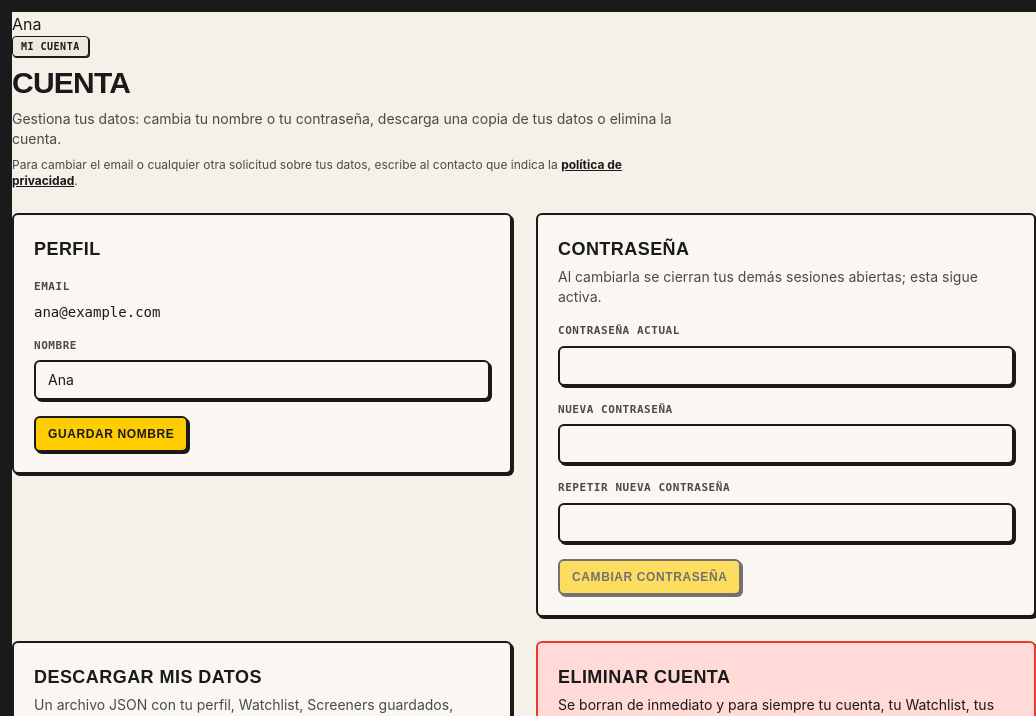
Test case: changes the password and clears the form
Type "old-password" into the password field labelled "Contraseña actual". click: (786, 366)
box: [558, 346, 1014, 386]
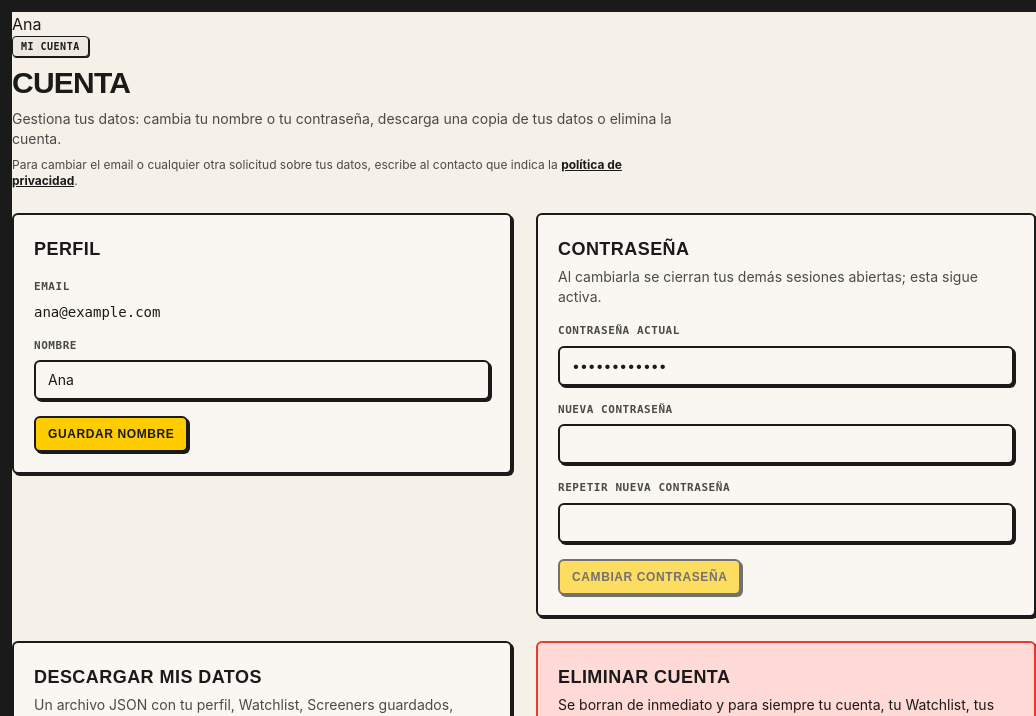
Type "brand-new-password" into the password field labelled "Nueva contraseña". click: (786, 444)
box: [558, 424, 1014, 464]
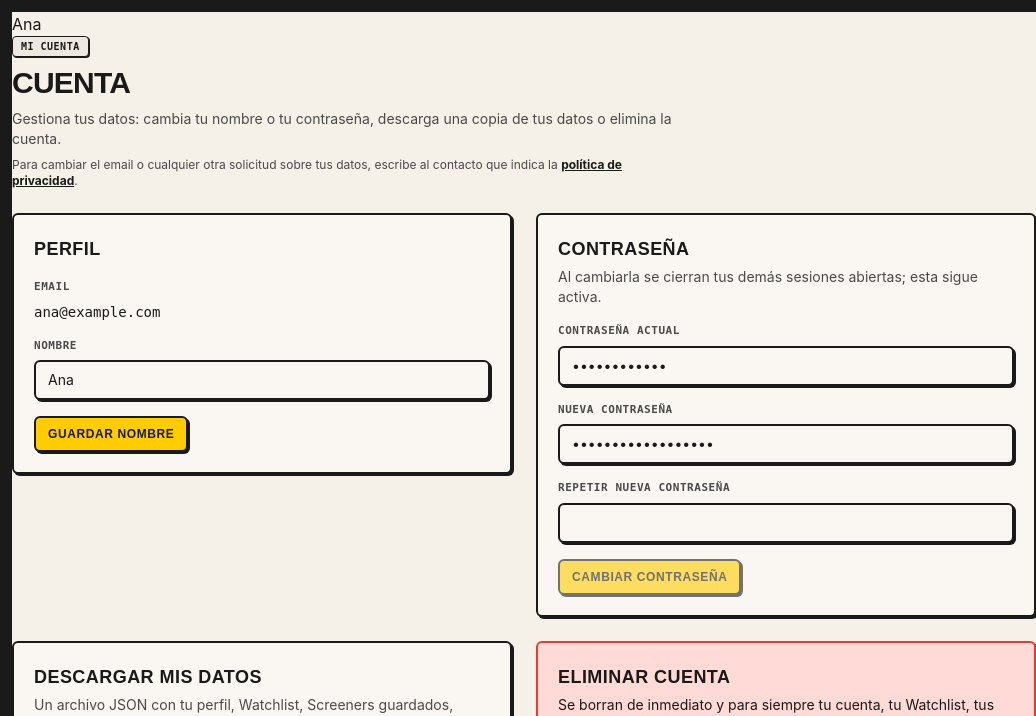
Type "brand-new-password" into the password field labelled "Repetir nueva contraseña". click: (786, 522)
box: [558, 502, 1014, 542]
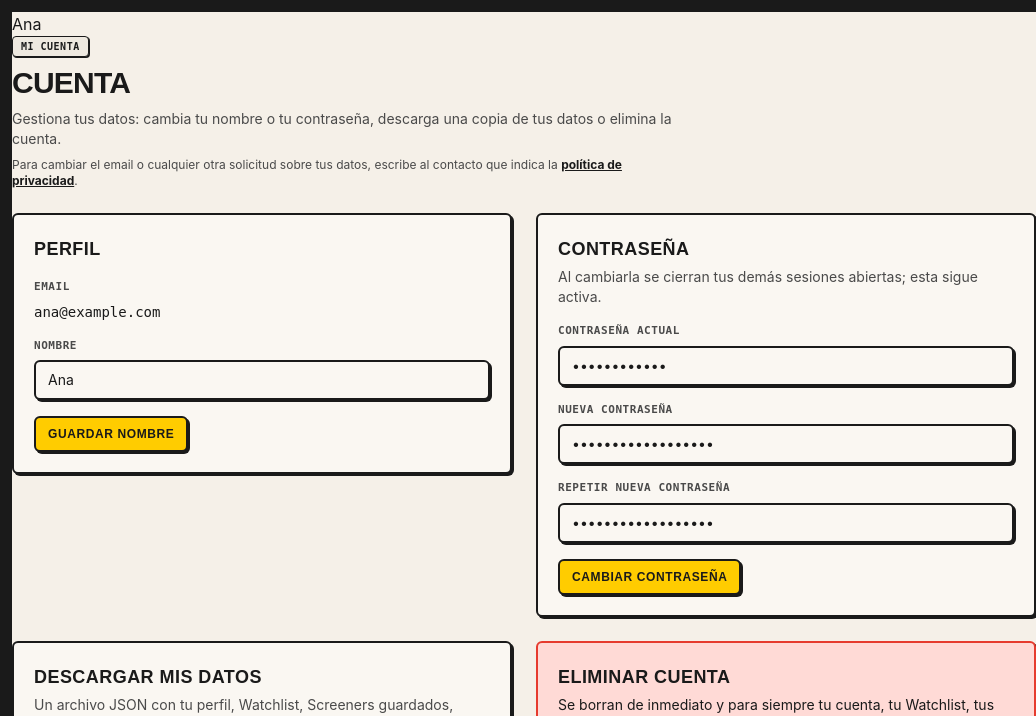
Click the button "Cambiar contraseña". click: (650, 576)
box: [558, 558, 742, 594]
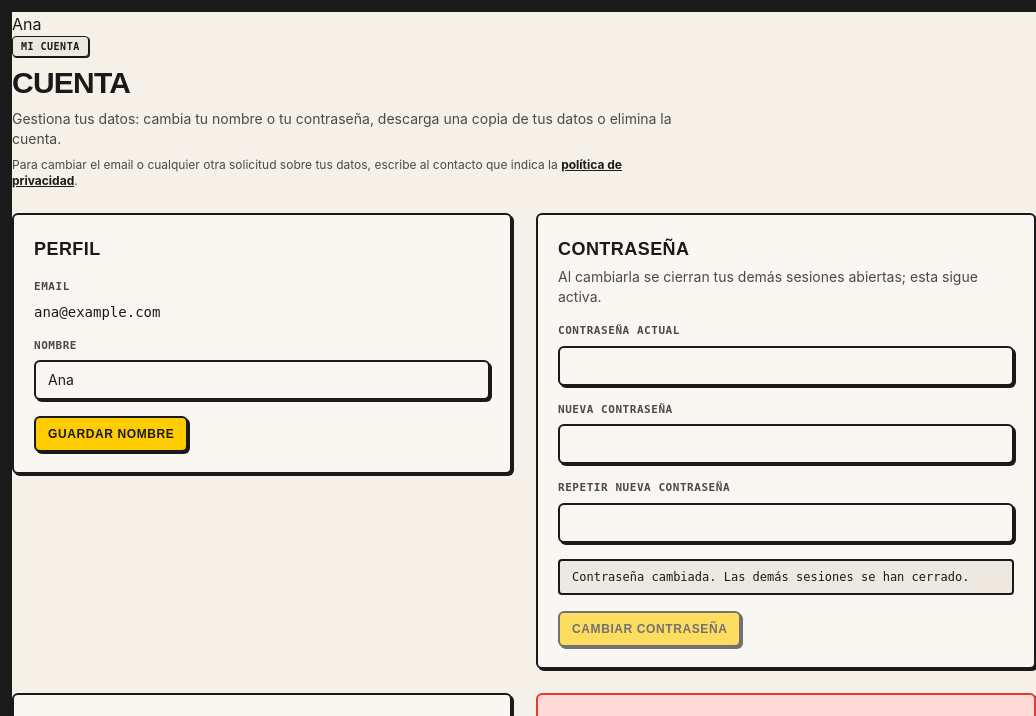
Expected: the text "Contraseña cambiada. Las demás sesiones se han cerrado." is shown, [558, 558, 1014, 594]
Expected: the password field labelled "Contraseña actual" is empty, [558, 346, 1014, 386]
